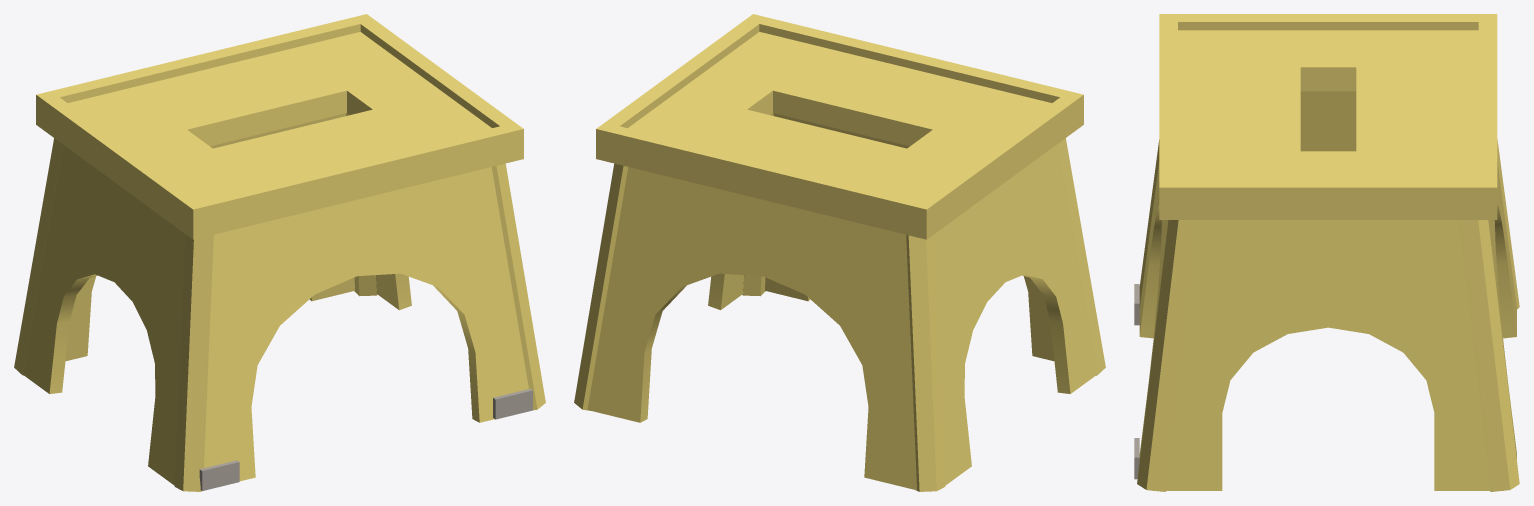
File: SC_Home_Bath_Stool_Yellow.gltf
The picture shows the model from 3 angles, left to right: view 1: azimuth 30°, elevation 25°; view 2: azimuth 150°, elevation 25°; view 3: azimuth 270°, elevation 25°; orthographic projection. The views are drawn at different scales.
Visible parts, largest first — view 1: SC_Home_Bath_Stool_Yellow; view 2: SC_Home_Bath_Stool_Yellow; view 3: SC_Home_Bath_Stool_Yellow.
Boxes of the visible parts, x1=… form: SC_Home_Bath_Stool_Yellow: x1=14, y1=14, x2=545, y2=491; SC_Home_Bath_Stool_Yellow: x1=574, y1=14, x2=1105, y2=491; SC_Home_Bath_Stool_Yellow: x1=1134, y1=14, x2=1519, y2=491.
Bounding box in the file's own units: 0.3401 × 0.2491 × 0.2909.
Materials: 1 (1 with a texture image).
